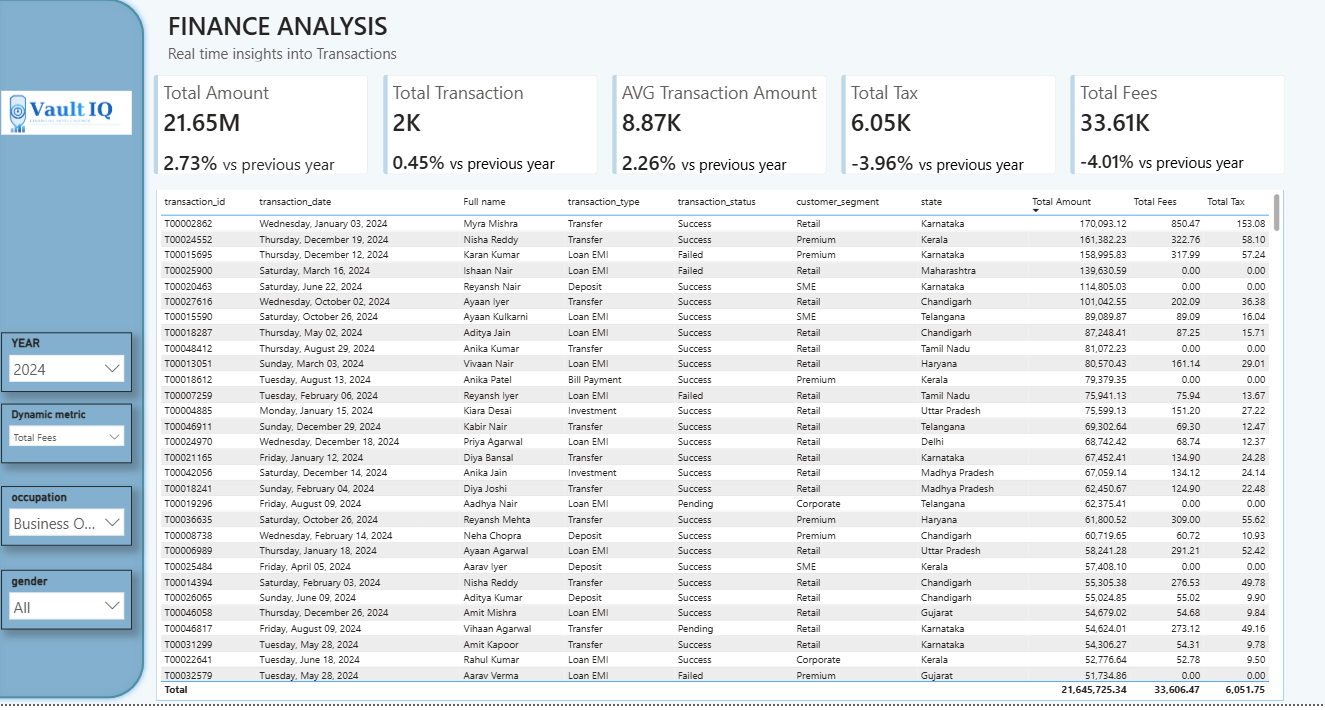

Layout of this report page (visuals, bound fields, positions):
{"tool":"powerbi","page":{"name":"page 2","canvas":[1800,950],"ordinal":1},"visuals":[{"type":"shape","box":[0,-10,216,960],"z":0},{"type":"cardVisual","fields":{"Data":["calendar table.DASHBOARD TITLE"]},"box":[216,0,384,96],"z":1000},{"type":"cardVisual","fields":{"Data":["finance_transactions.Total Amount","finance_transactions.Total Transaction","finance_transactions.AVG Transaction Amount","finance_transactions.Total Tax","finance_transactions.Total Fees"]},"box":[216,96,1536,144],"z":2000},{"type":"slicer","fields":{"Values":["calendar table.YEAR"]},"box":[16,448,176,80],"z":3000},{"type":"shape","box":[224,256,1520,688],"z":4000},{"type":"tableEx","fields":{"Values":["finance_transactions.transaction_id","finance_transactions.transaction_date","customers.Full name","finance_transactions.transaction_type","finance_transactions.transaction_status","customers.customer_segment","customers.state","finance_transactions.Total Amount","finance_transactions.Total Fees","finance_transactions.Total Tax"]},"box":[224,256,1520,688],"z":5000},{"type":"slicer","fields":{"Values":["customers.occupation"]},"box":[16,656,176,80],"z":6000},{"type":"slicer","fields":{"Values":["customers.gender"]},"box":[16,768,176,80],"z":7000},{"type":"slicer","fields":{"Values":["Dynamic metric.Dynamic metric"]},"box":[16,544,176,80],"z":8000},{"type":"image","box":[16,64,176,176],"z":8001}]}

Visuals, with their boxes in screenshot pixels (x1, y1, x2, y2), scaled from the page's 1800x950 canvas onto the 1325x710 screenshot:
shape: BBox(0, 0, 159, 709)
cardVisual - calendar table.DASHBOARD TITLE: BBox(159, 0, 442, 72)
cardVisual - finance_transactions.Total Amount x finance_transactions.Total Transaction: BBox(159, 72, 1290, 179)
slicer - calendar table.YEAR: BBox(12, 335, 141, 395)
shape: BBox(165, 191, 1284, 706)
tableEx - finance_transactions.transaction_id x finance_transactions.transaction_date: BBox(165, 191, 1284, 706)
slicer - customers.occupation: BBox(12, 490, 141, 550)
slicer - customers.gender: BBox(12, 574, 141, 634)
slicer - Dynamic metric.Dynamic metric: BBox(12, 407, 141, 466)
image: BBox(12, 48, 141, 179)
